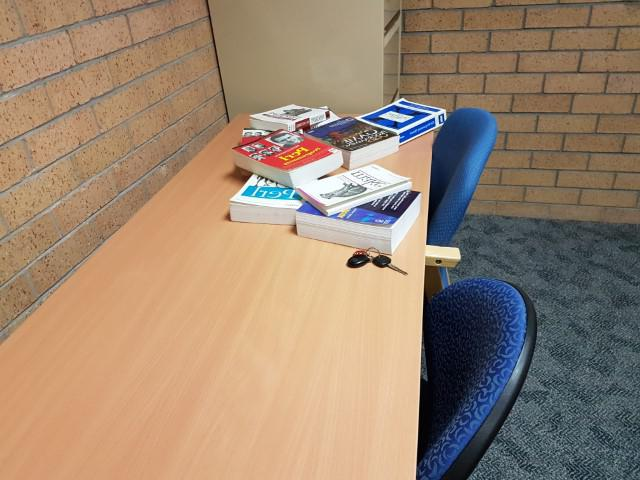key: (375, 255, 408, 275)
